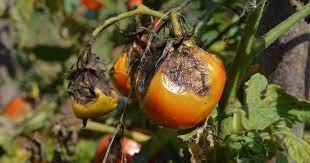tomato late blight: (125, 39, 228, 133), (67, 63, 127, 139)
